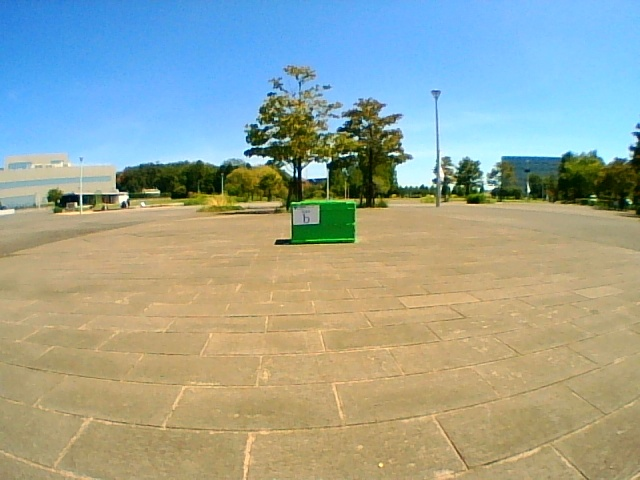green_box: (291, 200, 355, 245)
tag_b: (294, 205, 318, 224)
